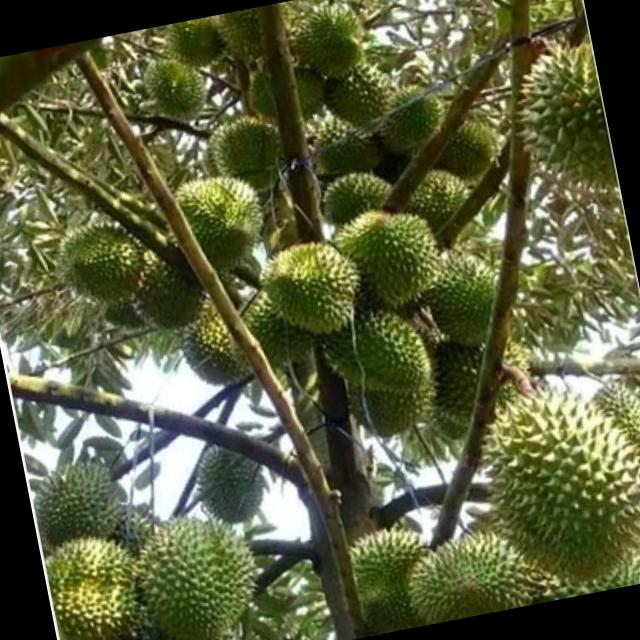Sau Rieng: (470, 368, 640, 584), (126, 506, 262, 640), (507, 40, 612, 192), (332, 306, 441, 435), (406, 521, 540, 622), (335, 200, 446, 314), (41, 528, 153, 640), (256, 237, 362, 343), (342, 521, 438, 634), (412, 245, 508, 352), (27, 452, 128, 552), (519, 524, 640, 605), (170, 170, 267, 270), (421, 330, 515, 430), (56, 215, 152, 306), (180, 295, 262, 387), (185, 442, 269, 530), (126, 252, 208, 332), (316, 58, 398, 136), (287, 0, 366, 78), (206, 112, 284, 190), (242, 59, 326, 130), (402, 162, 478, 239), (376, 81, 452, 154), (138, 51, 208, 120), (432, 112, 502, 180), (310, 120, 384, 184), (319, 165, 392, 228), (105, 504, 168, 567), (592, 374, 640, 454), (212, 5, 276, 65), (165, 13, 229, 68), (92, 287, 149, 336), (492, 334, 534, 386), (270, 0, 309, 47), (481, 0, 528, 10)
